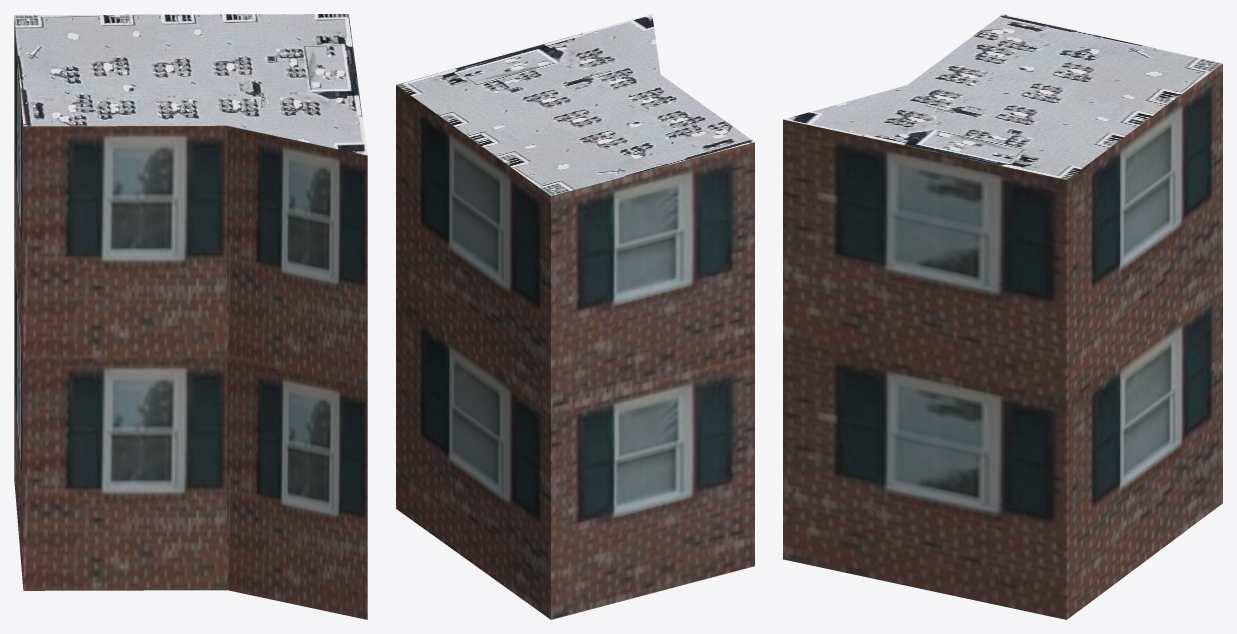
Rendered from ResTex__712.fbx.
The picture shows the model from 3 angles, left to right: view 1: azimuth 30°, elevation 25°; view 2: azimuth 150°, elevation 25°; view 3: azimuth 270°, elevation 25°; orthographic projection. The views are drawn at different scales.
Parts seen in each view (by area): view 1: CityEngineMaterial_14_m, CityEngineMaterial_8_m; view 2: CityEngineMaterial_14_m, CityEngineMaterial_8_m; view 3: CityEngineMaterial_14_m, CityEngineMaterial_8_m.
Part boxes in pixels (x1,y1,x2,y2): CityEngineMaterial_14_m: (14,18,367,619); CityEngineMaterial_8_m: (14,14,367,155); CityEngineMaterial_14_m: (396,85,754,619); CityEngineMaterial_8_m: (396,14,754,195); CityEngineMaterial_14_m: (783,63,1222,619); CityEngineMaterial_8_m: (783,14,1222,179).
Bounding box in the file's own units: 4.86 × 6 × 5.44.
2 materials, 2 textured.
